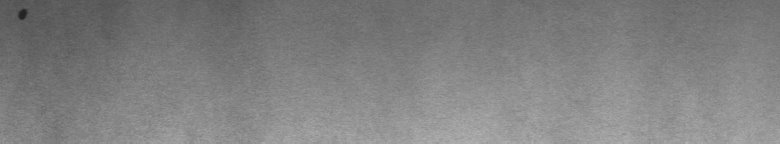fi: (12, 4, 32, 28)
